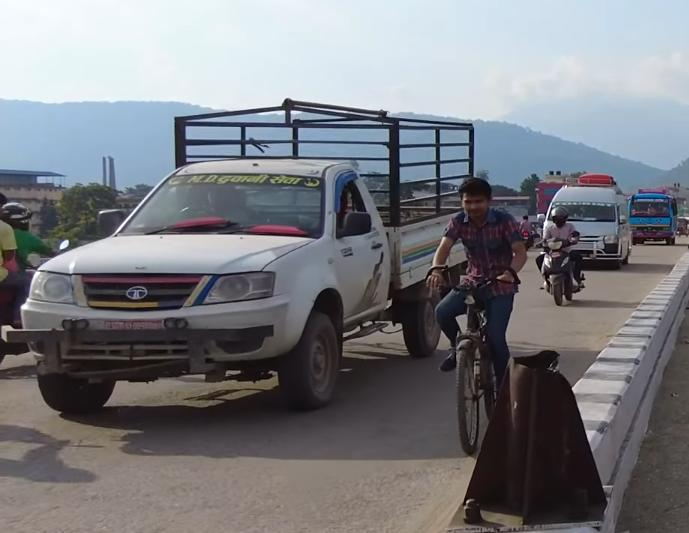bus: (628, 184, 680, 250)
micro_bus: (538, 162, 639, 279)
scooter: (523, 205, 595, 314)
transport_vehicle: (12, 92, 491, 410)
